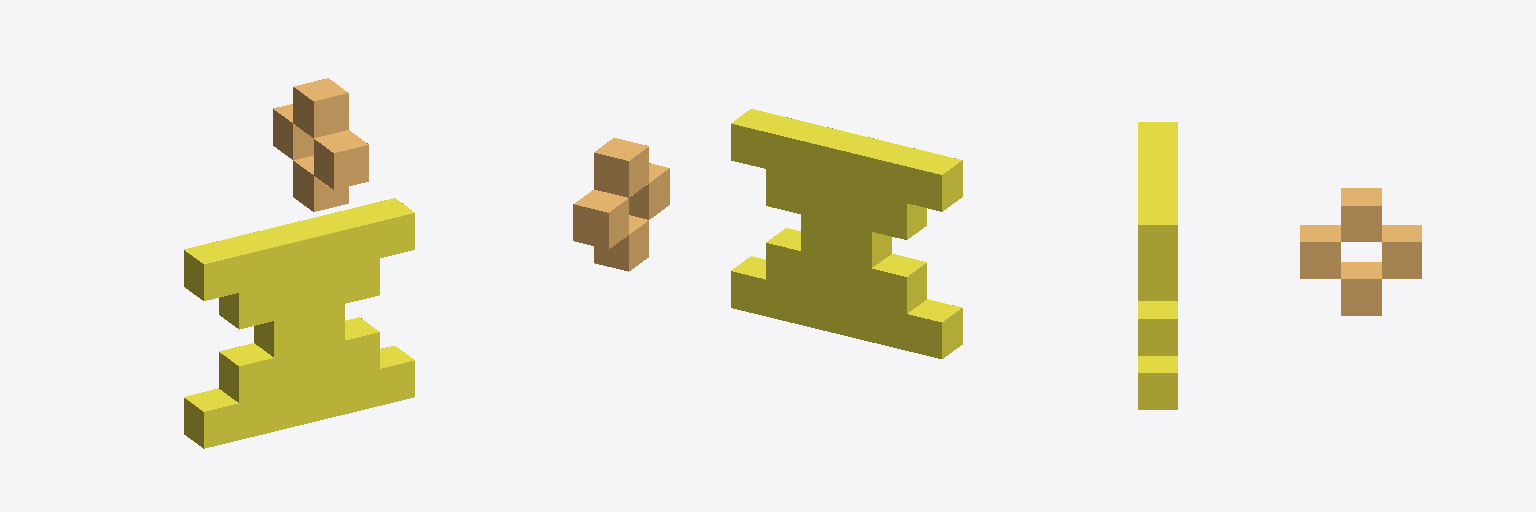
3 renders of one model, left to right at view 1: azimuth 30°, elevation 25°; view 2: azimuth 150°, elevation 25°; view 3: azimuth 270°, elevation 25°, orthographic.
Visible parts, largest first — view 1: Chronomancer-transparent; view 2: Chronomancer-transparent; view 3: Chronomancer-transparent.
Part boxes in pixels (x1,y1,x2,y2): Chronomancer-transparent: (184, 78, 414, 448); Chronomancer-transparent: (573, 109, 962, 358); Chronomancer-transparent: (1138, 122, 1421, 409).
Size of the model in its own units: 7 by 6 by 7.
1 materials, 1 textured.